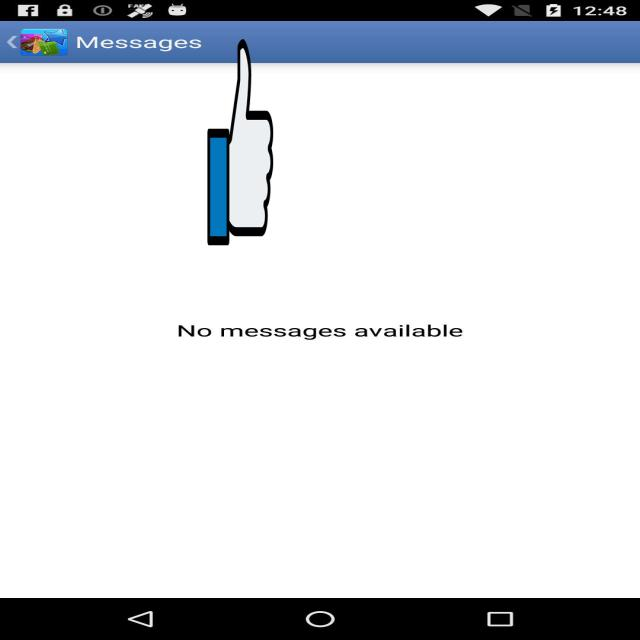privacy zuckering: (208, 34, 274, 250)
